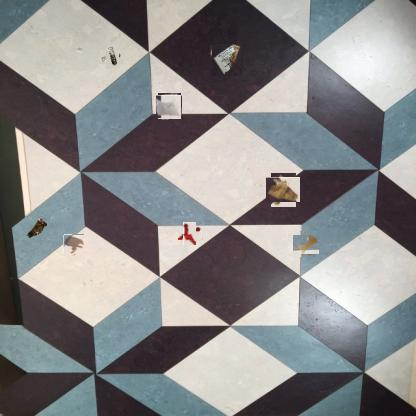dirty: (210, 44, 242, 76), (269, 175, 298, 205), (157, 94, 182, 119), (25, 216, 49, 240), (103, 47, 121, 67), (181, 224, 199, 243)
liquid: (294, 233, 318, 255), (64, 234, 84, 255)
